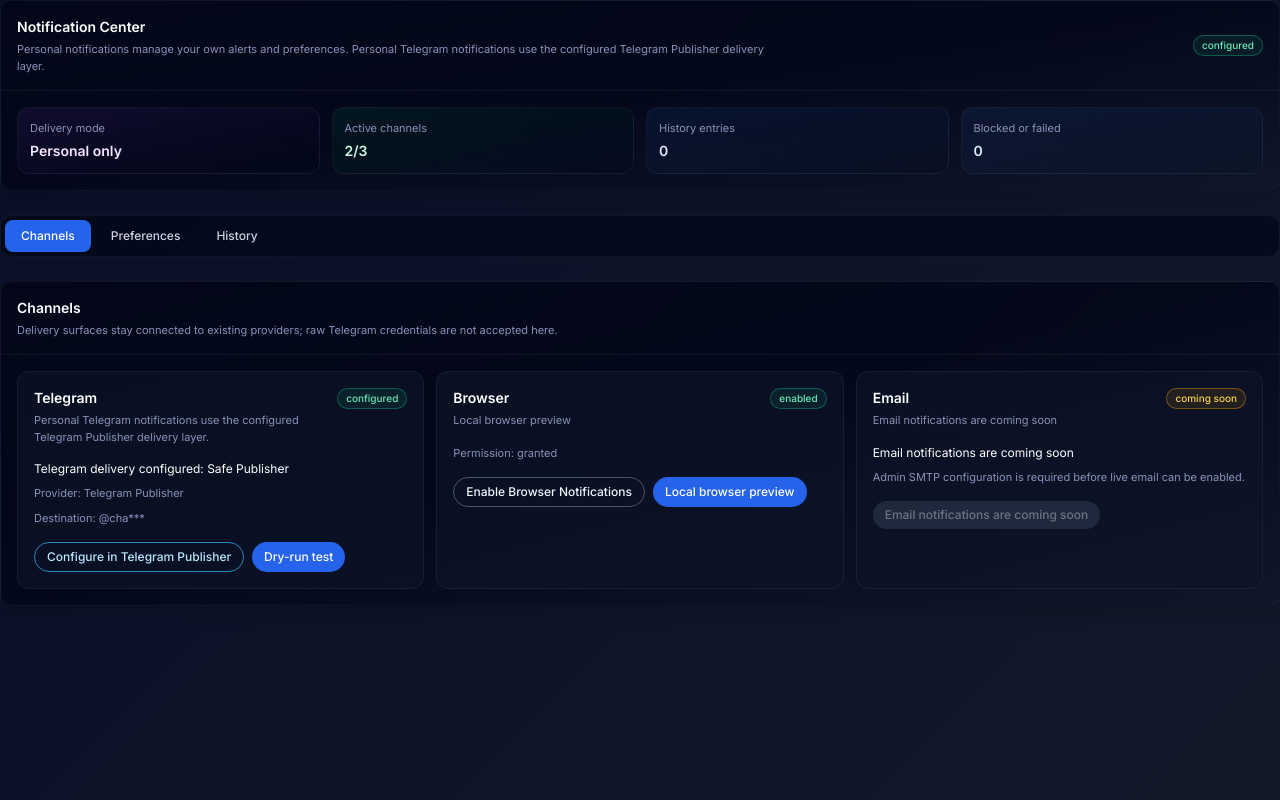
NotificationsSettings unified center › browser channel persistence › keeps browser enabled badge when switching notification tabs
Expected: the heading "Browser" is shown, [453,389,509,406]
Expected: the text "enabled" is shown, [770,388,827,409]
Step 1. Click the button "Preferences" → (146, 236), box [95,220,196,252]
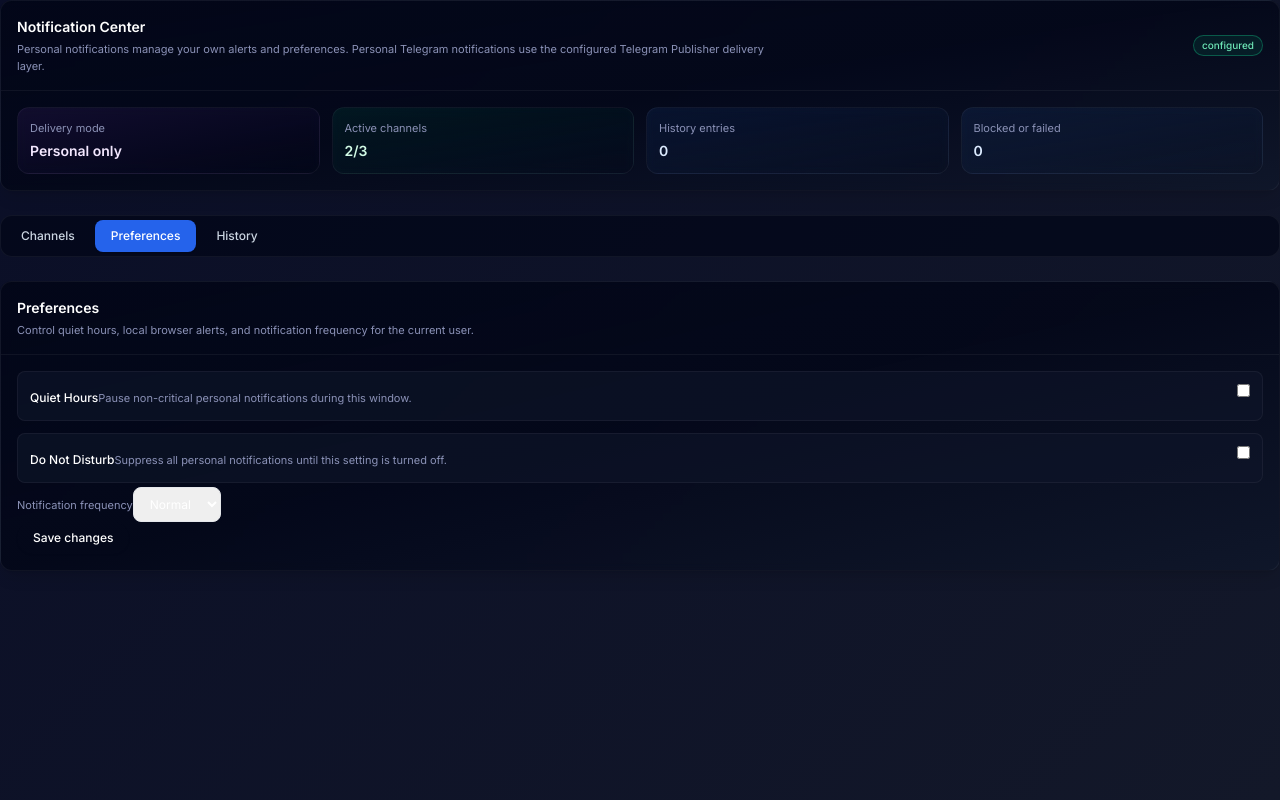
Step 2. Click the button "Channels" → (48, 236), box [5,220,91,252]
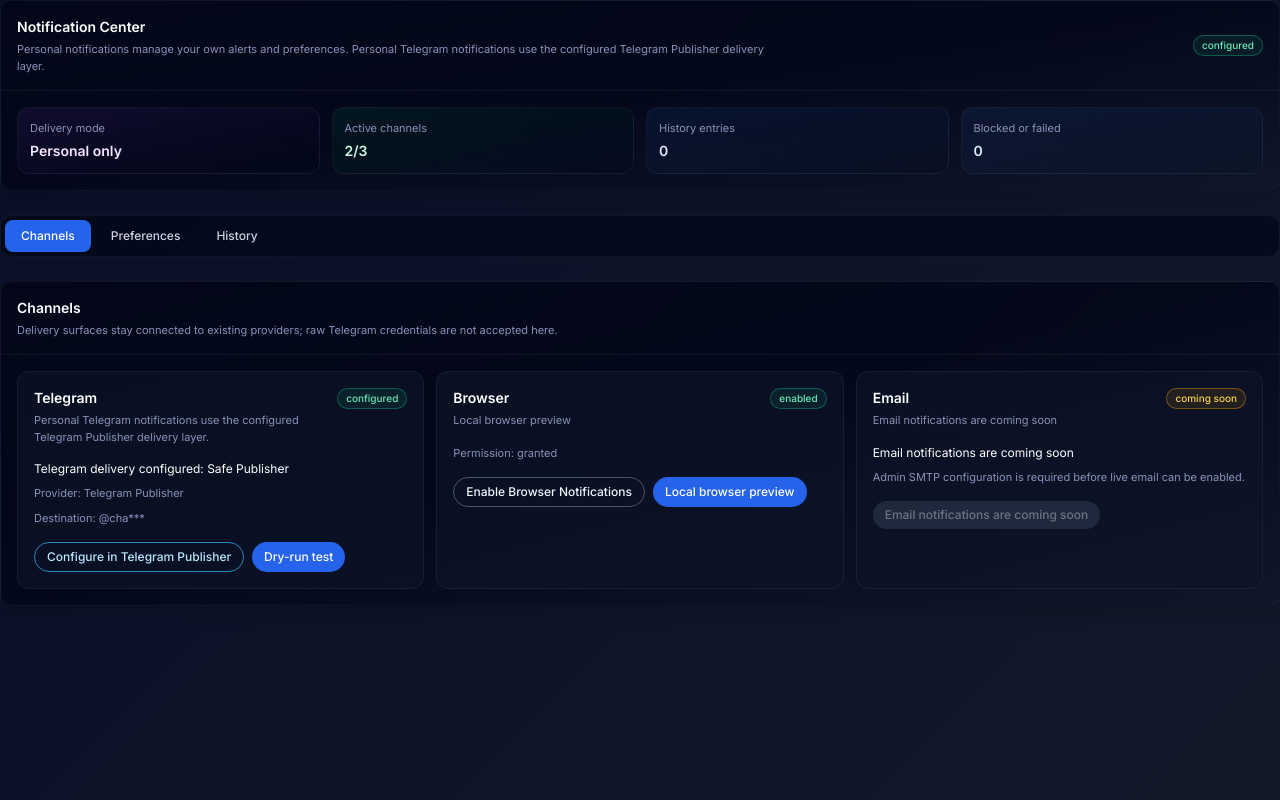
Expected: the text "enabled" is shown, [770,388,827,409]
